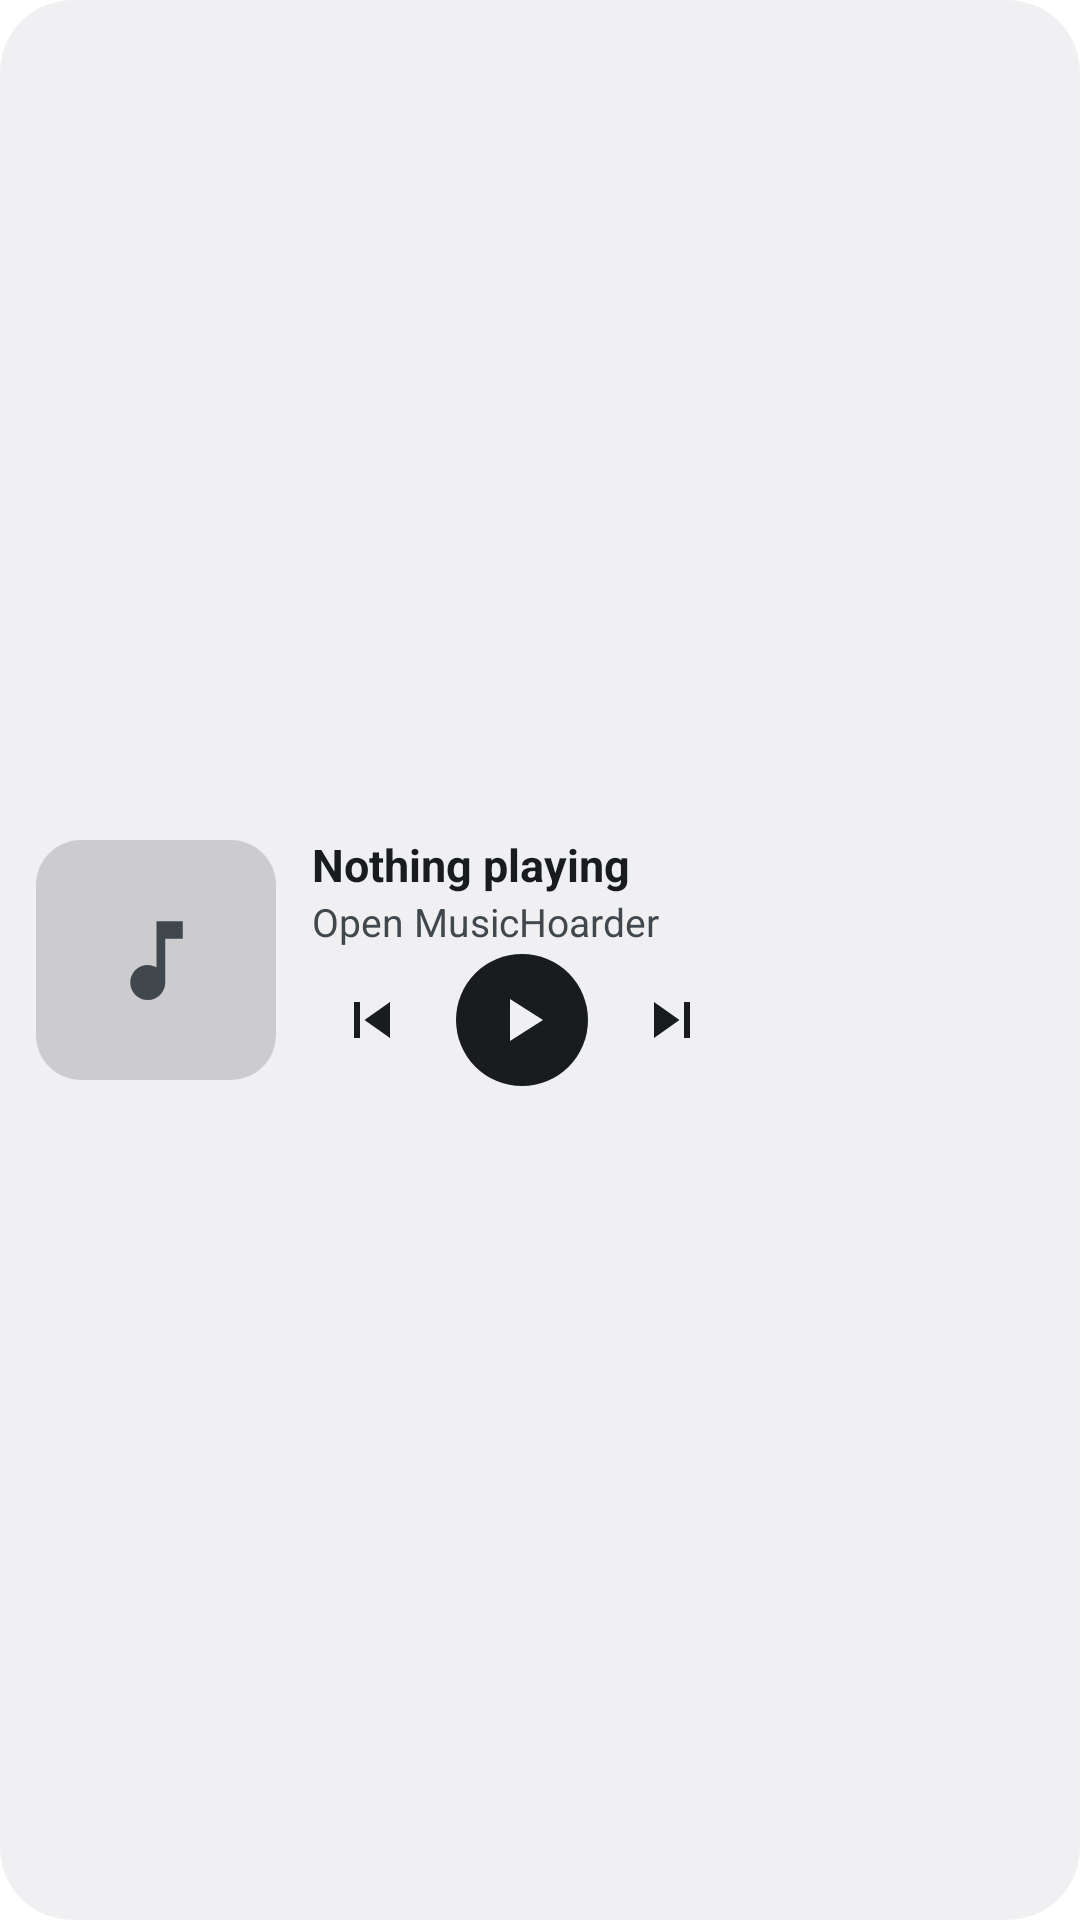

Locate icon controls on the screen. Image size 1080*1920, boxes as region(x1, y1, x2, y2).
Next: region(654, 1002, 690, 1038)
Previous: region(354, 1002, 390, 1038)
